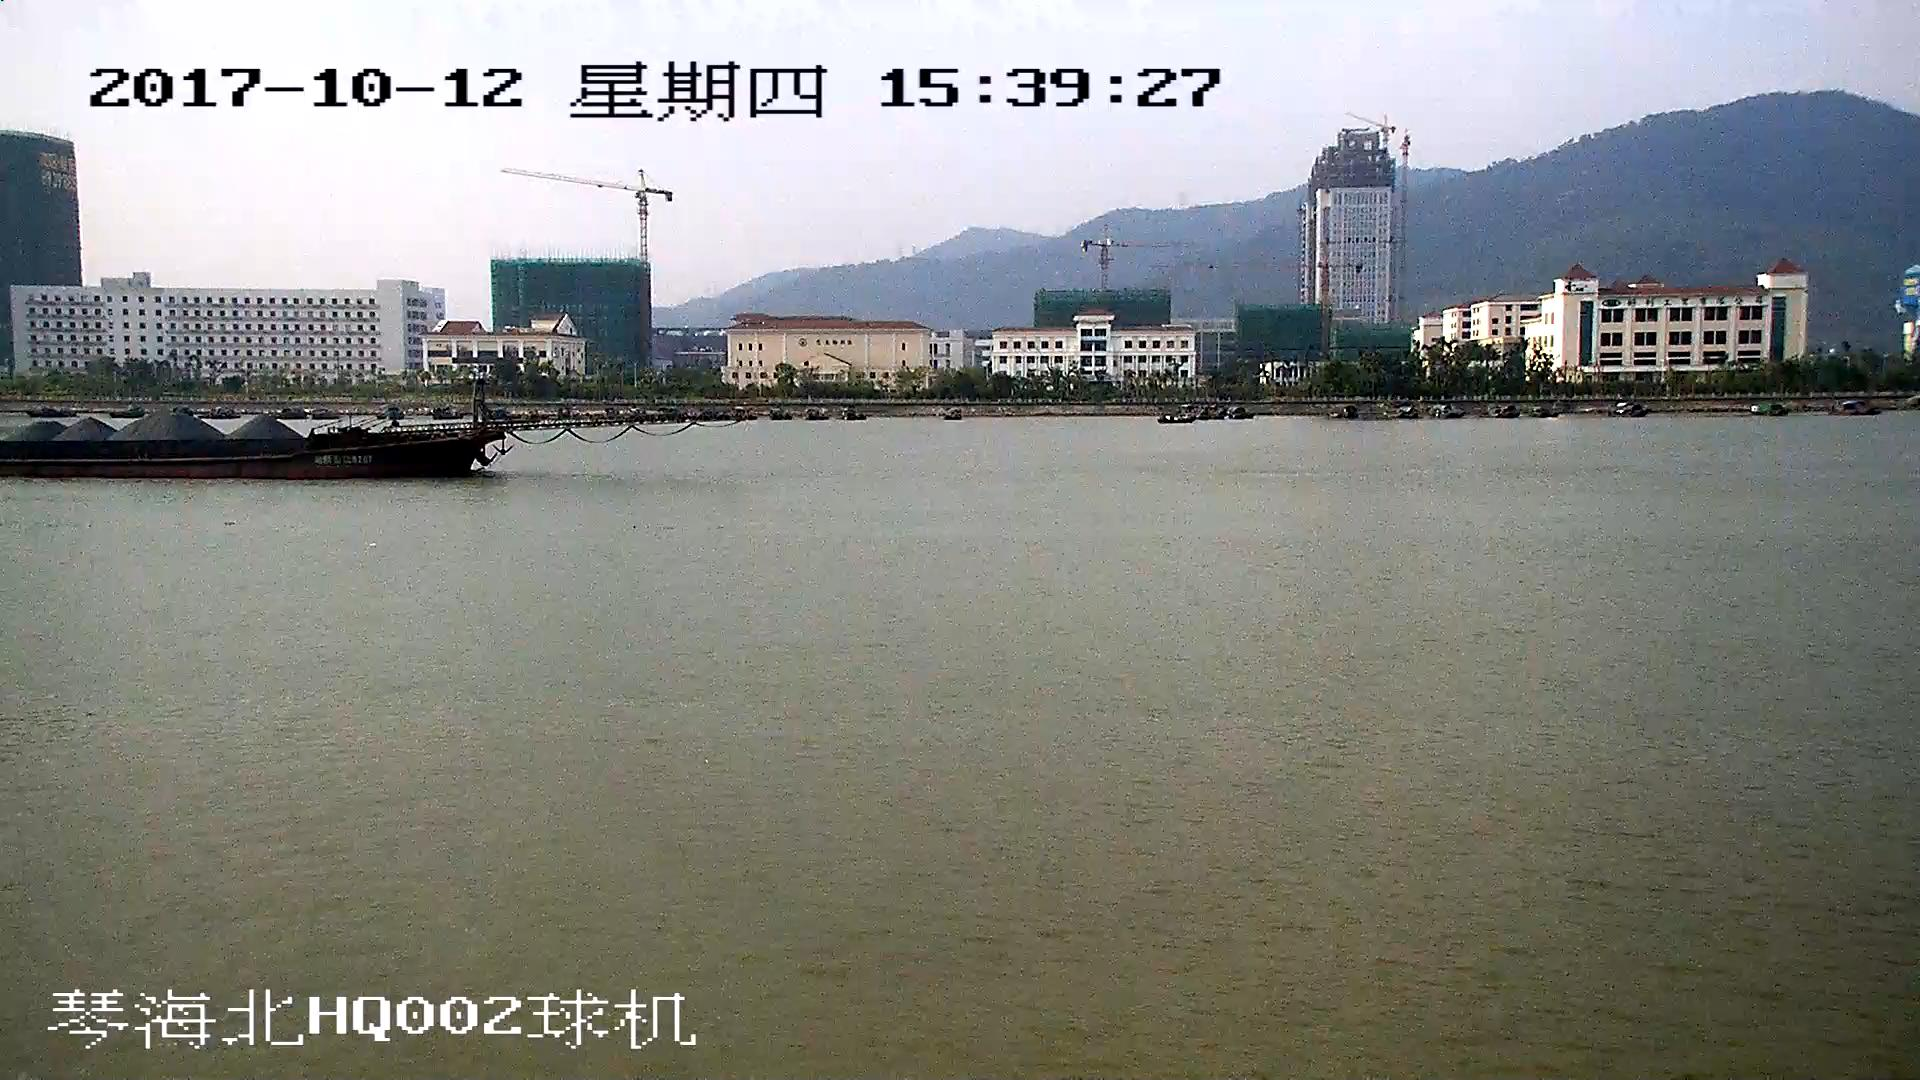ore carrier: (1, 371, 722, 478)
